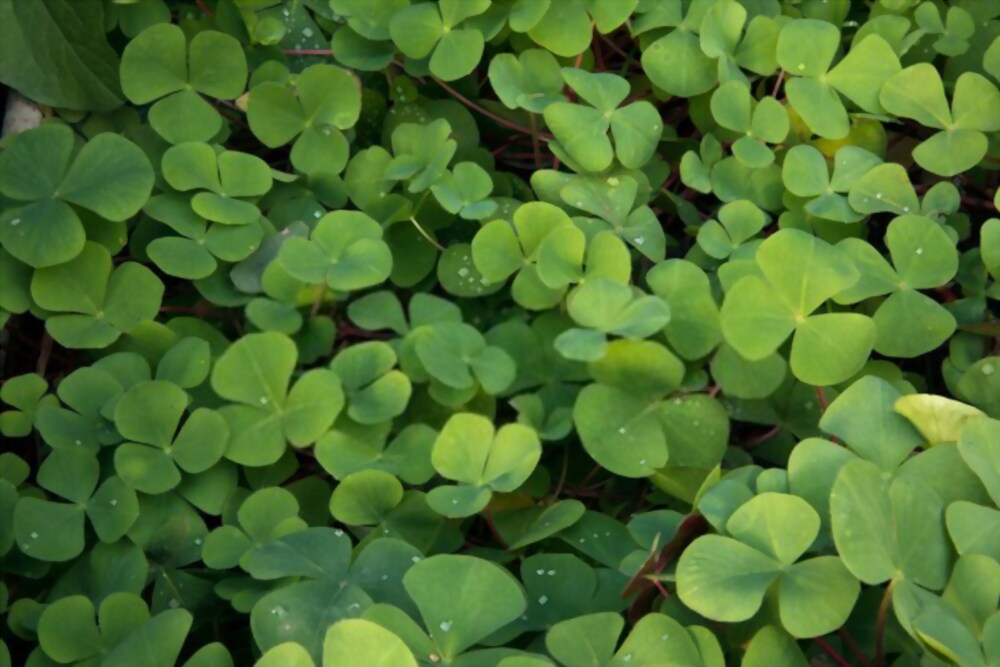clover: (13, 11, 990, 664)
